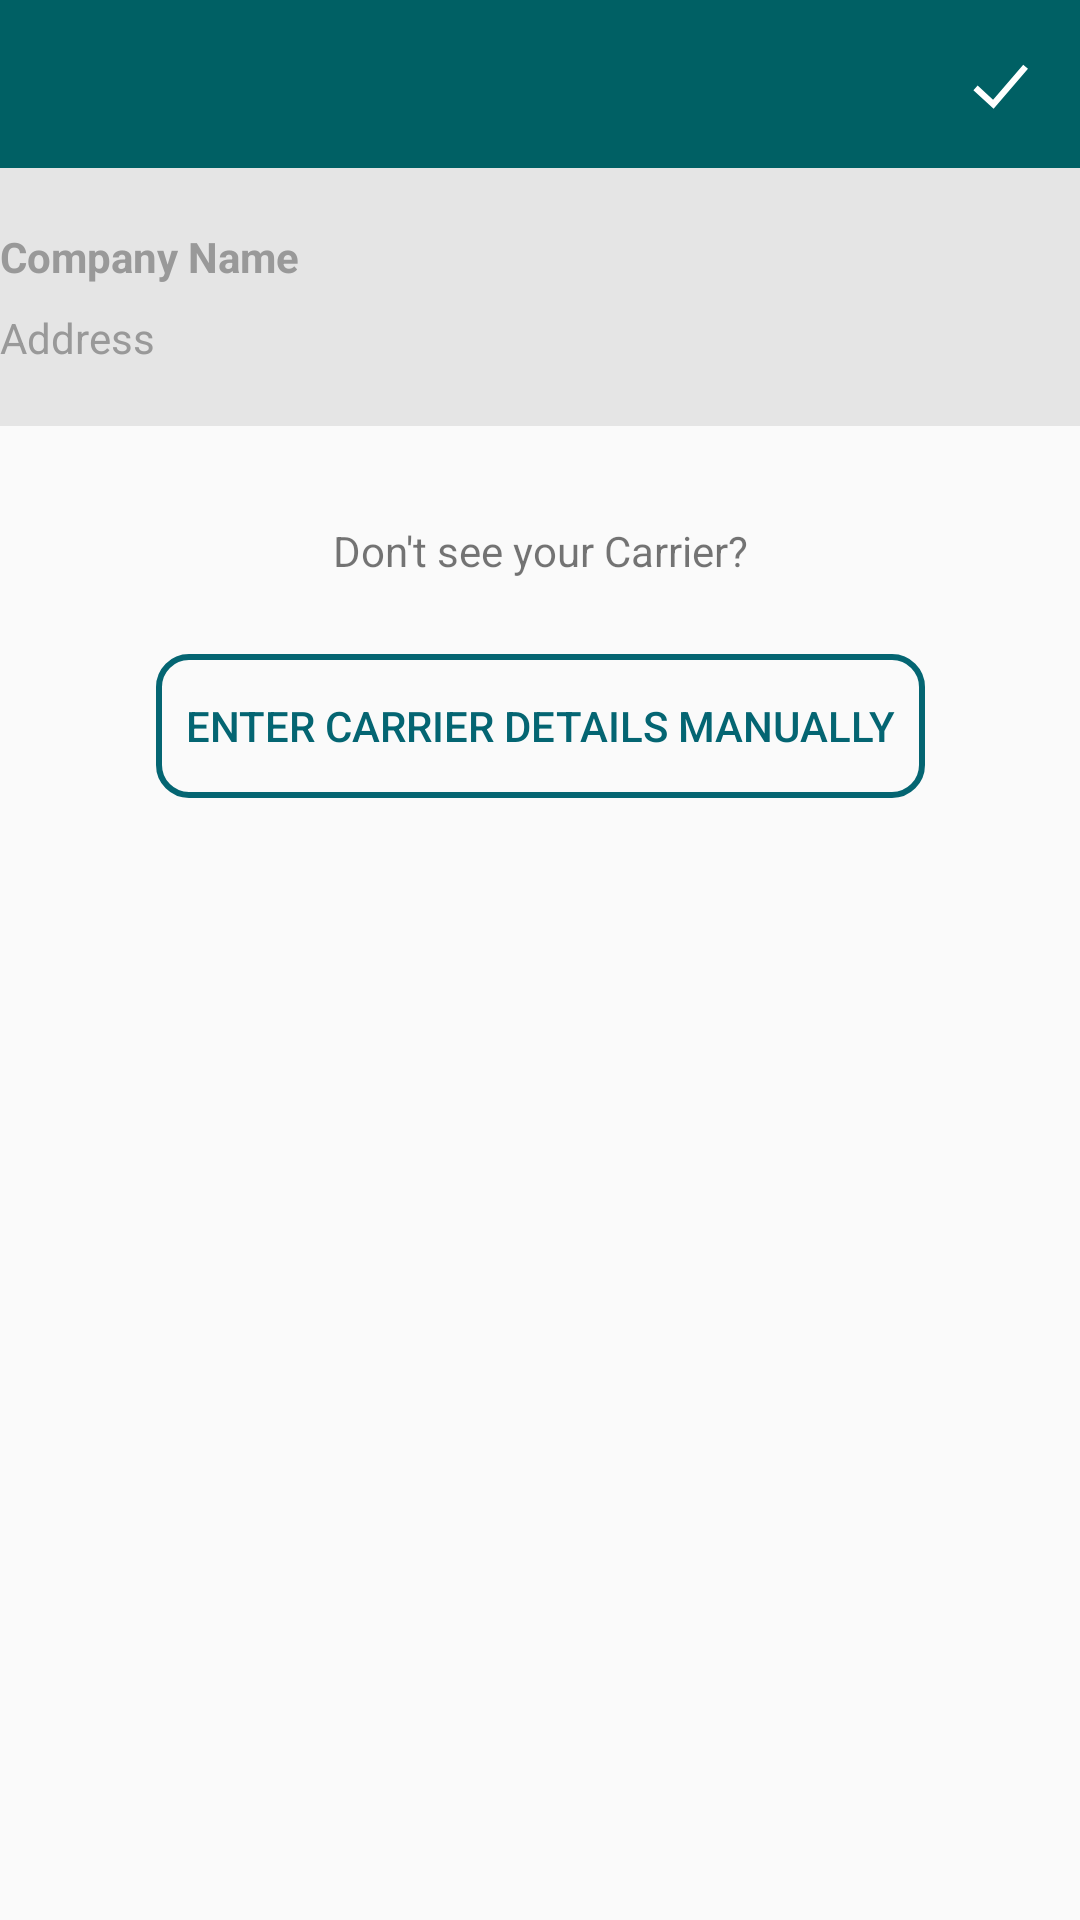

Screen size 1080 x 1920. Icon name, then its center in pixels as [x,y]:
tick: [1000,87]
